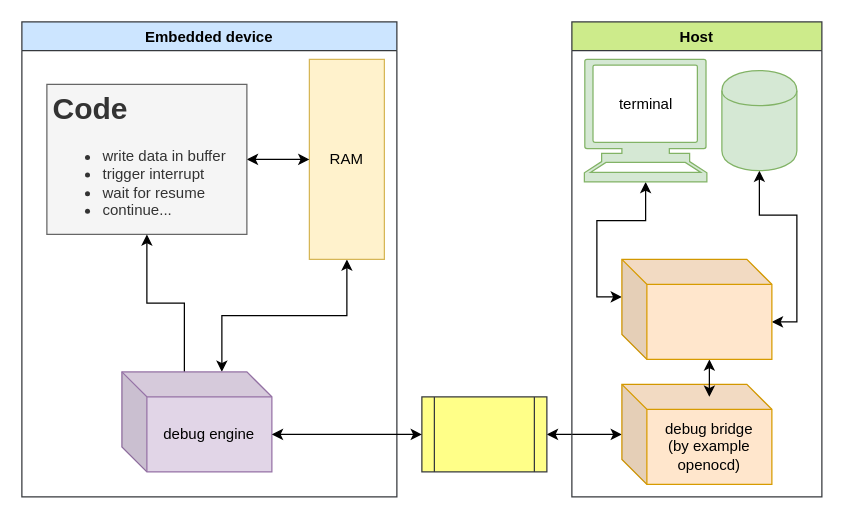
This 844x519 diagram has some shape labels left out. Each missing label, with the centre of its shape:
"debug hardare (JTAG, SWD, others)" goes at point 484,434.
"debugger (gdb by example)" goes at point 696,308.
"filesystem" goes at point 759,120.
